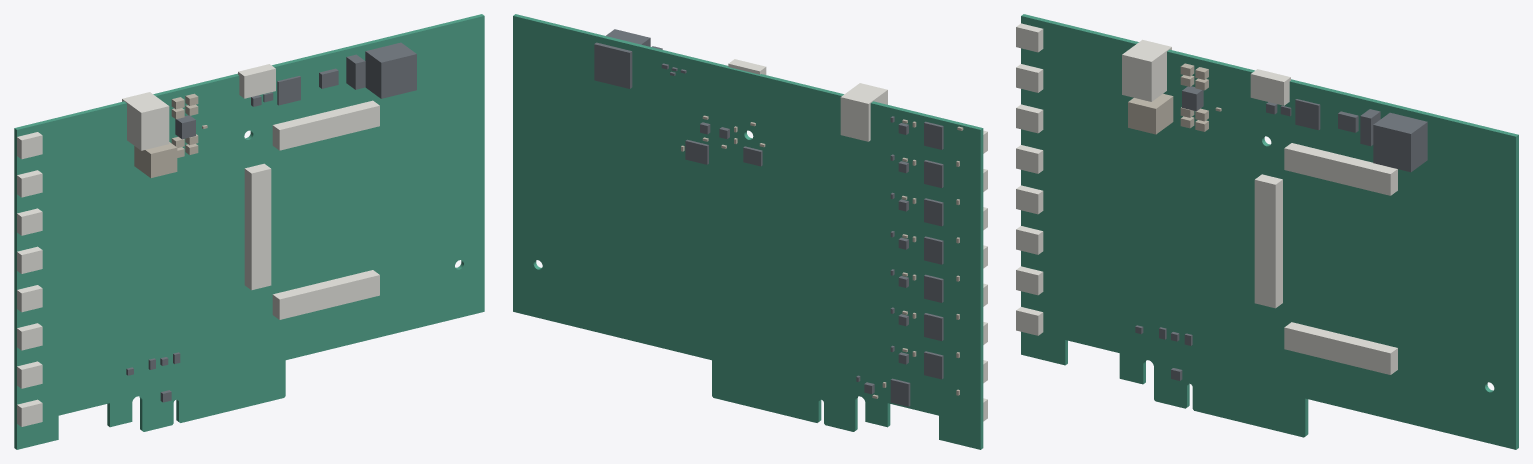
File: HDMI_Extension_V37.glb
3 renders of one model, left to right at view 1: azimuth 30°, elevation 25°; view 2: azimuth 150°, elevation 25°; view 3: azimuth 330°, elevation 25°, orthographic. The views are drawn at different scales.
Visible parts, largest first — view 1: board, conn, ic, passive; view 2: board, ic, conn, passive; view 3: board, conn, ic, passive.
Part boxes in pixels (x1,y1,x2,y2): board: (14,14,484,449); conn: (17,64,379,426); ic: (126,42,416,402); passive: (134,93,207,177); board: (513,14,983,449); ic: (594,29,943,406); conn: (728,59,987,421); passive: (681,115,963,398); board: (1021,14,1518,449); conn: (1016,23,1397,374); ic: (1135,86,1427,380); passive: (1128,63,1221,134).
Size of the model in its own units: 168 by 115 by 13.44.
